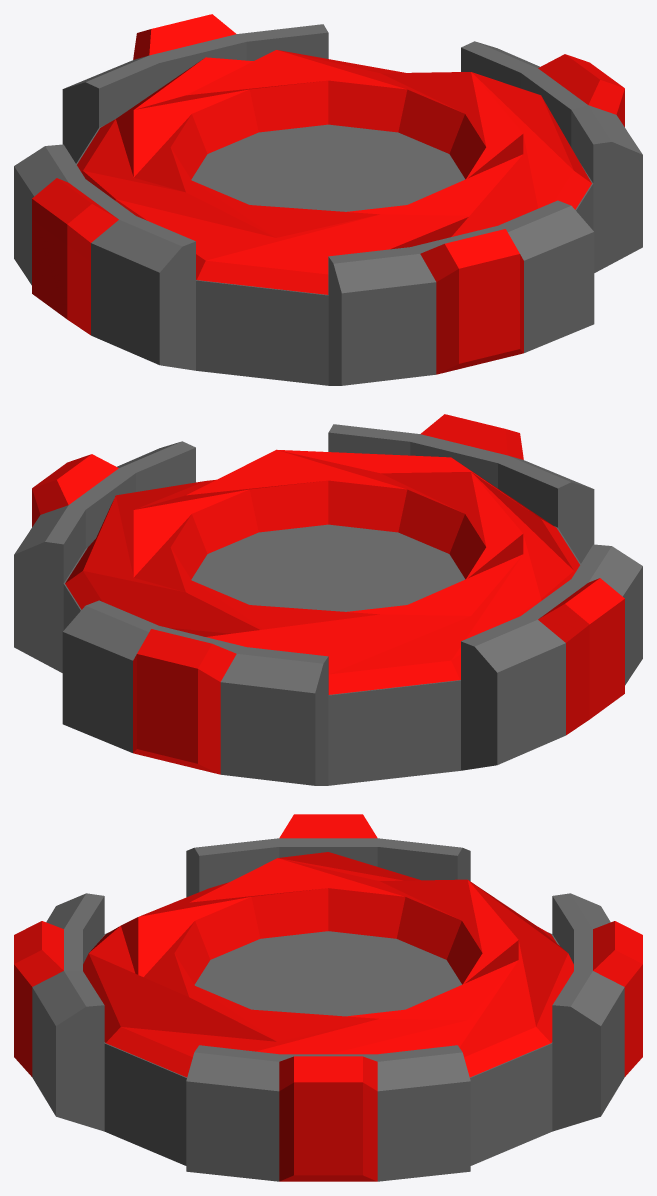
File: custom_defense.glb
3 renders of one model, top to bottom at view 1: azimuth 30°, elevation 25°; view 2: azimuth 150°, elevation 25°; view 3: azimuth 270°, elevation 25°, orthographic. The views are drawn at different scales.
Visible parts, largest first — view 1: Cylinder, Torus; view 2: Cylinder, Torus; view 3: Cylinder, Torus.
Boxes of the visible parts, x1,y1,x2,y2 form: Cylinder: [14, 14, 642, 385]; Torus: [77, 50, 591, 294]; Cylinder: [14, 414, 642, 785]; Torus: [65, 449, 579, 694]; Cylinder: [14, 814, 642, 1181]; Torus: [83, 852, 573, 1077].
Size of the model in its own units: 1.19 by 0.2949 by 1.19.
